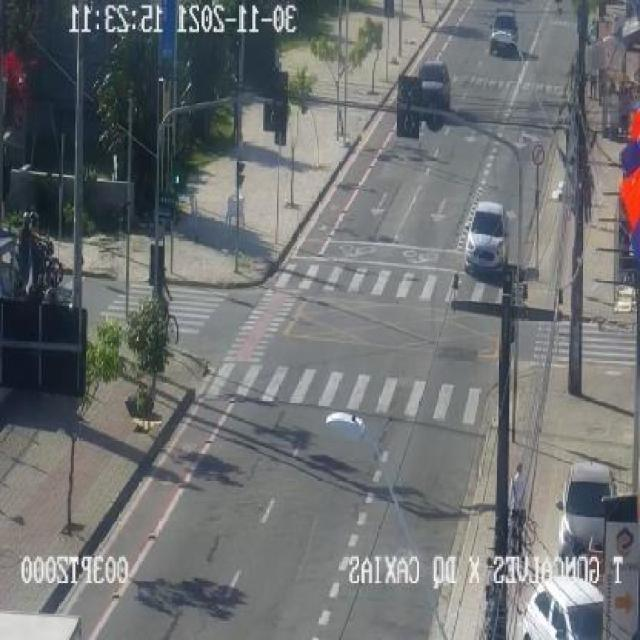Car: (552, 462, 623, 558), (521, 574, 612, 640), (463, 202, 515, 281), (488, 8, 524, 70), (418, 56, 452, 120)
Cycle: (0, 211, 65, 301)
